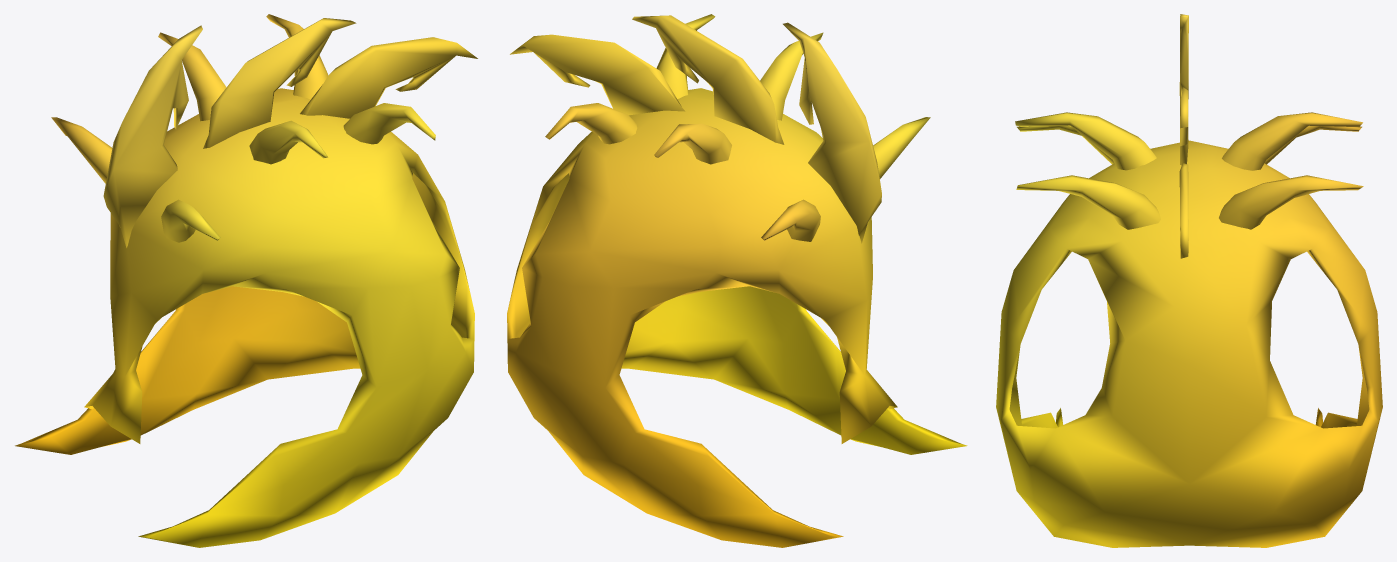
File: helmet_4.fbx
3 views of the same model, side by side, from view 1: azimuth 30°, elevation 25°; view 2: azimuth 150°, elevation 25°; view 3: azimuth 270°, elevation 25° (orthographic). The views are drawn at different scales.
Parts seen in each view (by area): view 1: _SMD_root_; view 2: _SMD_root_; view 3: _SMD_root_.
Part boxes in pixels (x1=…): _SMD_root_: x1=15, y1=14, x2=477, y2=547; _SMD_root_: x1=507, y1=14, x2=967, y2=547; _SMD_root_: x1=996, y1=14, x2=1382, y2=547.
Bounding box in the file's own units: 414 × 461 × 335.
